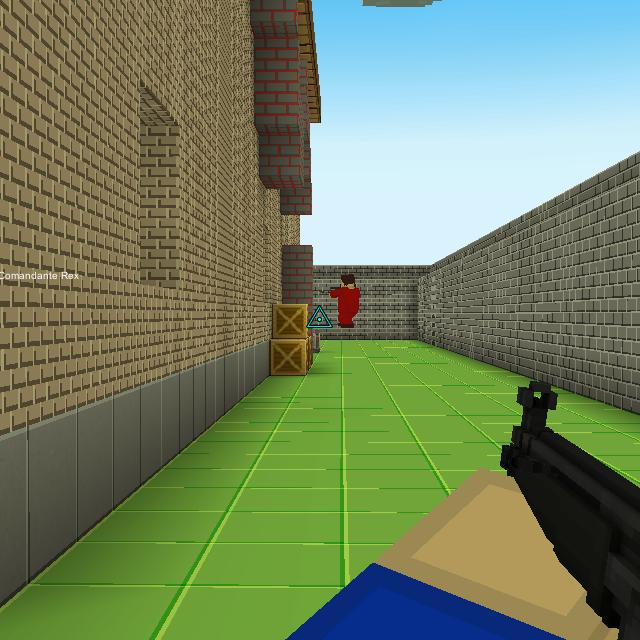enemy: (327, 268, 362, 329)
